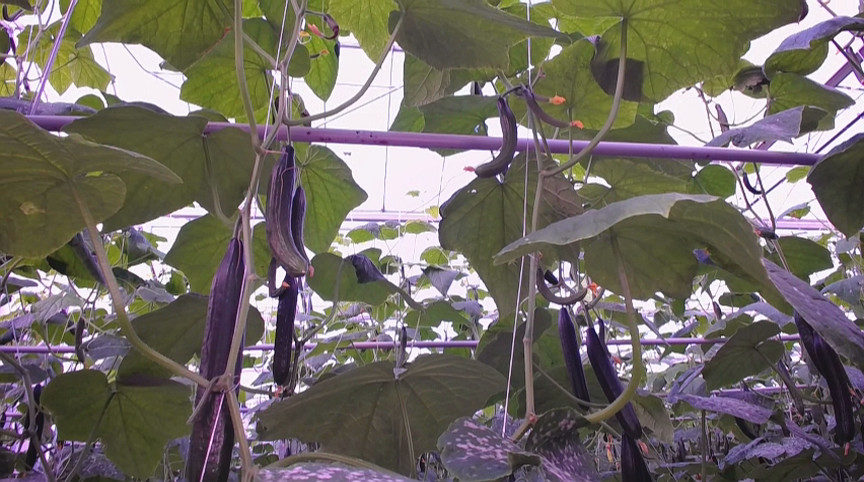cucumber: (181, 237, 250, 482), (790, 313, 854, 447), (261, 142, 312, 281), (583, 328, 644, 442), (468, 95, 521, 181), (554, 308, 591, 411), (273, 274, 300, 386), (614, 436, 654, 482)
